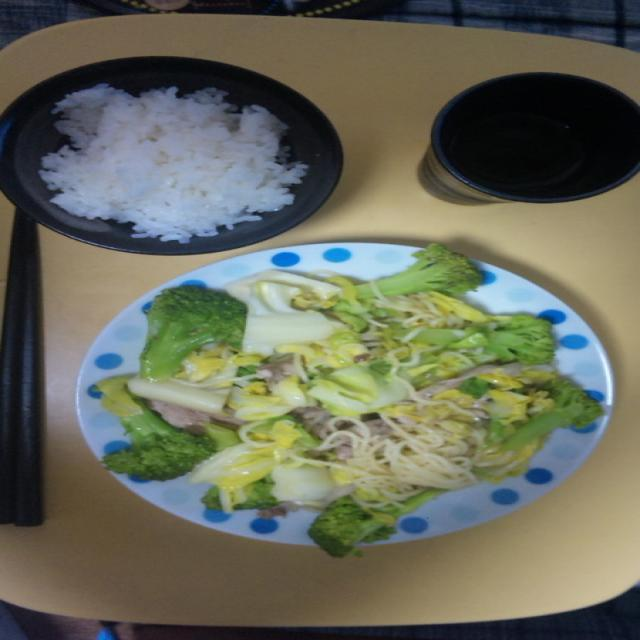Rice: (22, 90, 318, 226)
